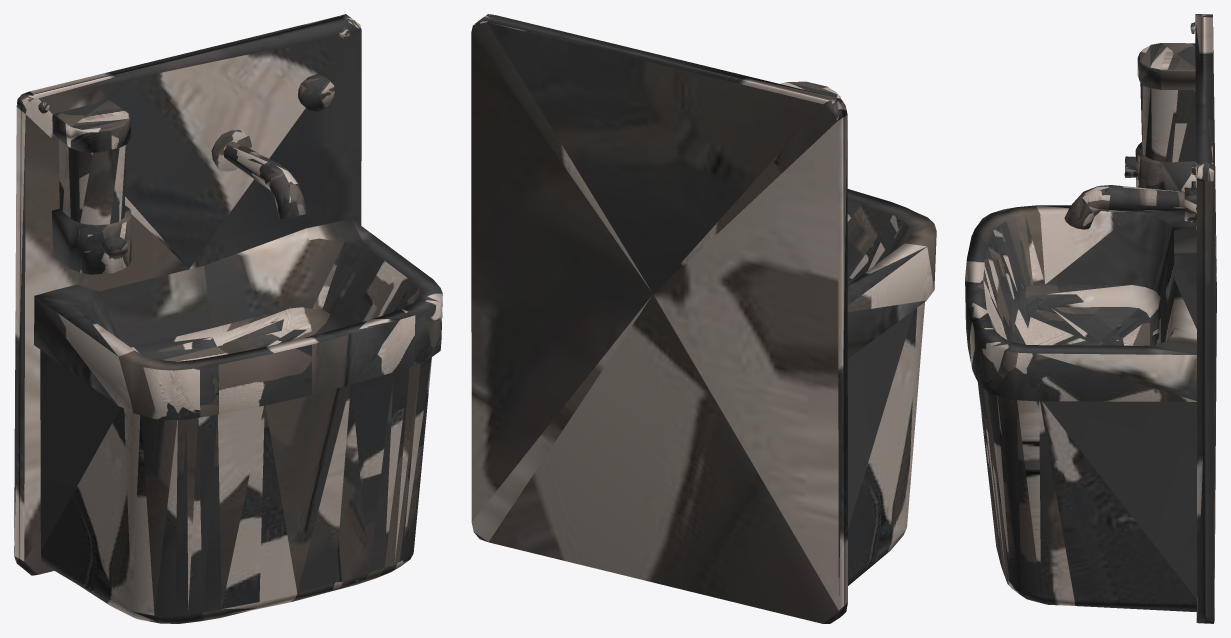
Rendered from WashBasin.fbx.
3 renders of one model, left to right at view 1: azimuth 30°, elevation 25°; view 2: azimuth 150°, elevation 25°; view 3: azimuth 270°, elevation 25°, orthographic. The views are drawn at different scales.
Visible parts, largest first — view 1: PROP_WashBasin; view 2: PROP_WashBasin; view 3: PROP_WashBasin.
Part boxes in pixels (bbox=[...]): PROP_WashBasin: bbox=[14, 14, 442, 623]; PROP_WashBasin: bbox=[471, 14, 936, 623]; PROP_WashBasin: bbox=[965, 14, 1216, 623].
Bounding box in the file's own units: 70.51 × 95 × 47.22.
